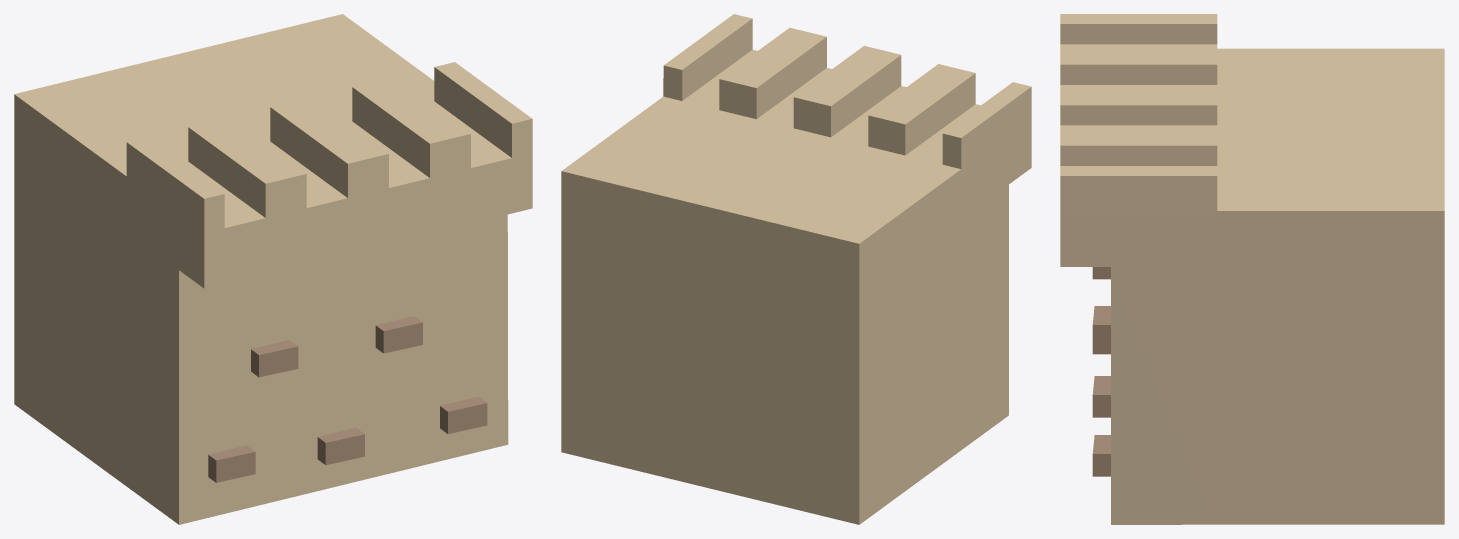
File: WallBricks.obj
3 views of the same model, side by side, from view 1: azimuth 30°, elevation 25°; view 2: azimuth 150°, elevation 25°; view 3: azimuth 270°, elevation 25° (orthographic). The views are drawn at different scales.
Size of the model in its own units: 1 by 1 by 1.
